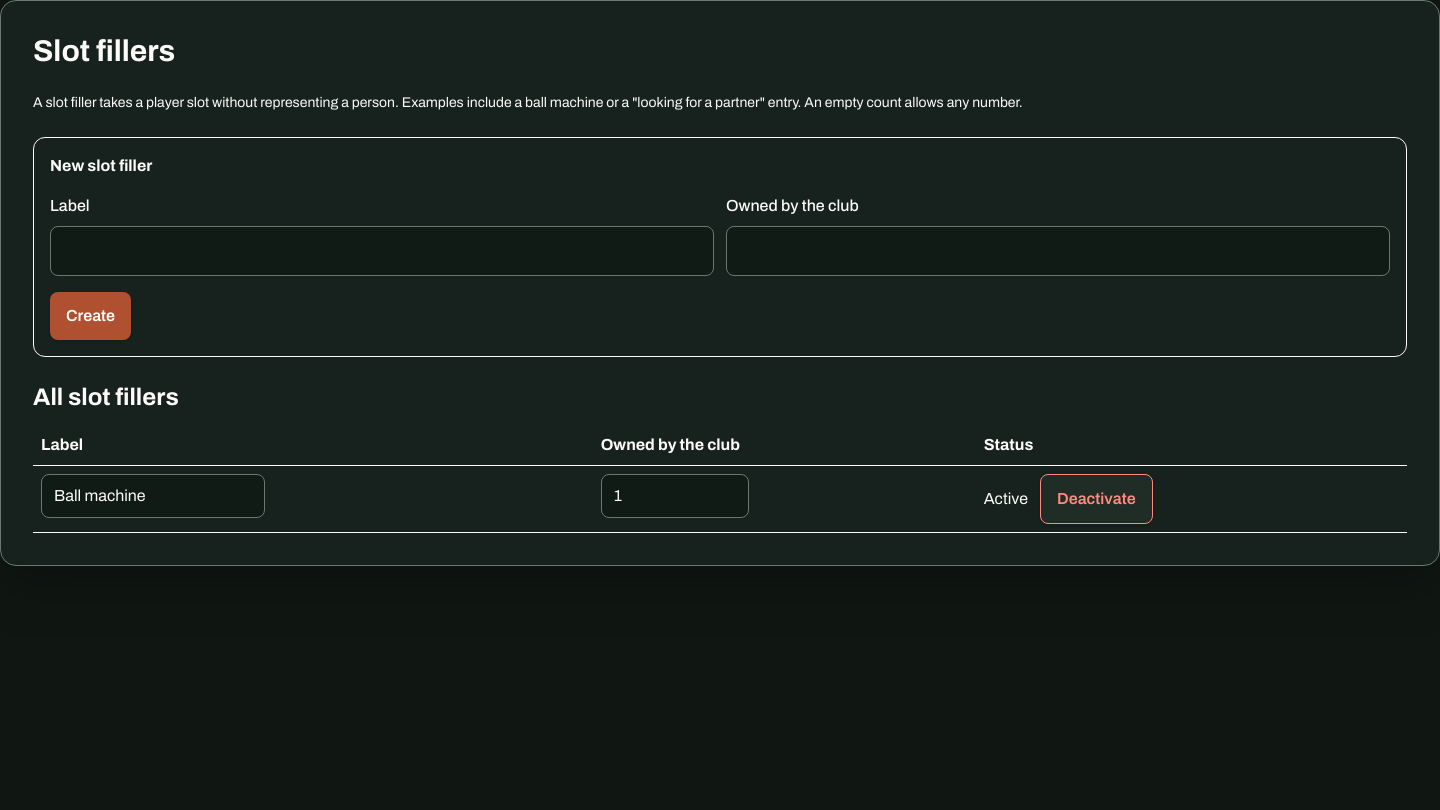
Scenario: AdminSlotFillersView › when a slot filler is added, then it is created and joins the list
Step 1. Type "Looking for a partner" into the field with test id "new-participant-card-label" → (382, 251), box [50, 226, 714, 276]
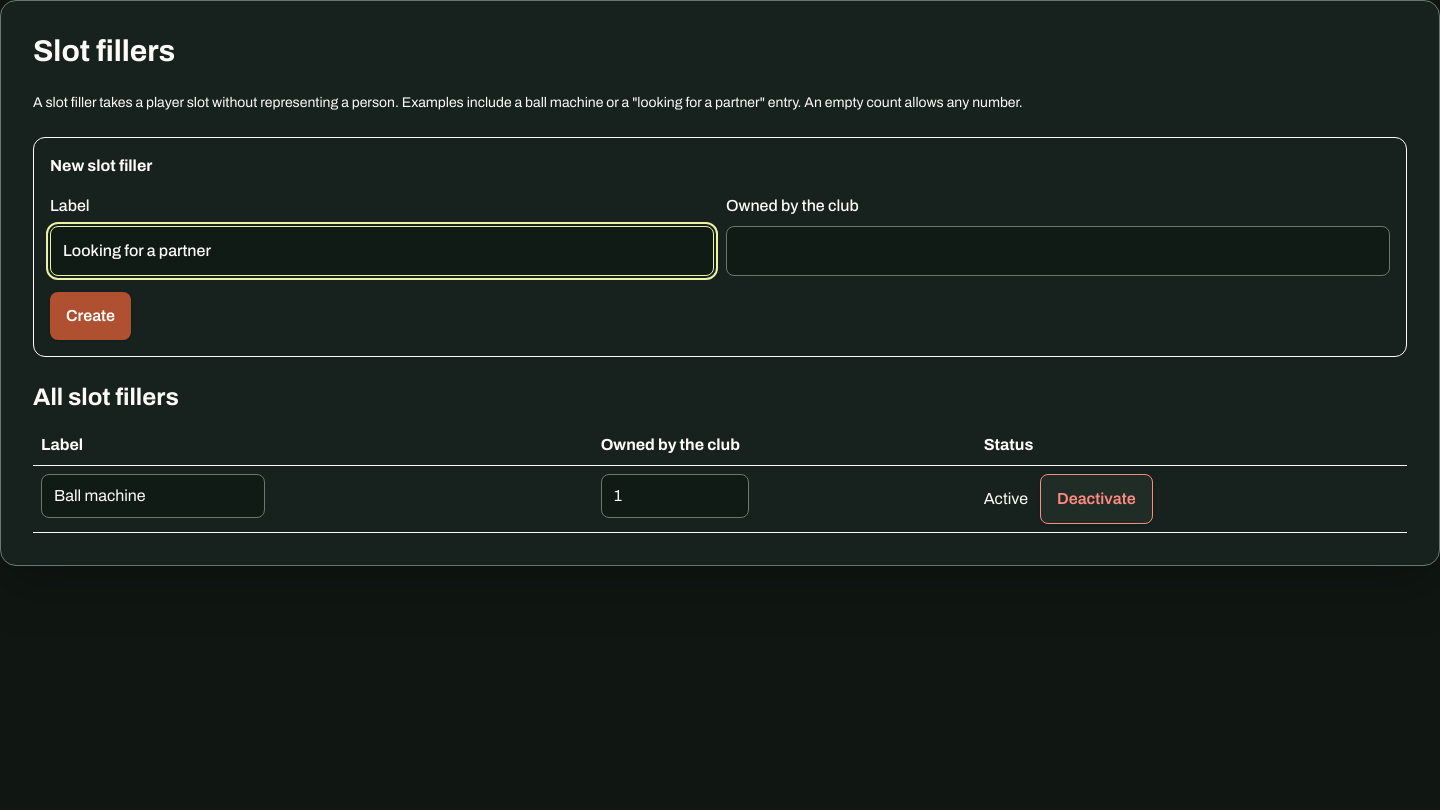
Step 2. Click the button with test id "create-participant-card" → (90, 316), box [50, 292, 131, 340]
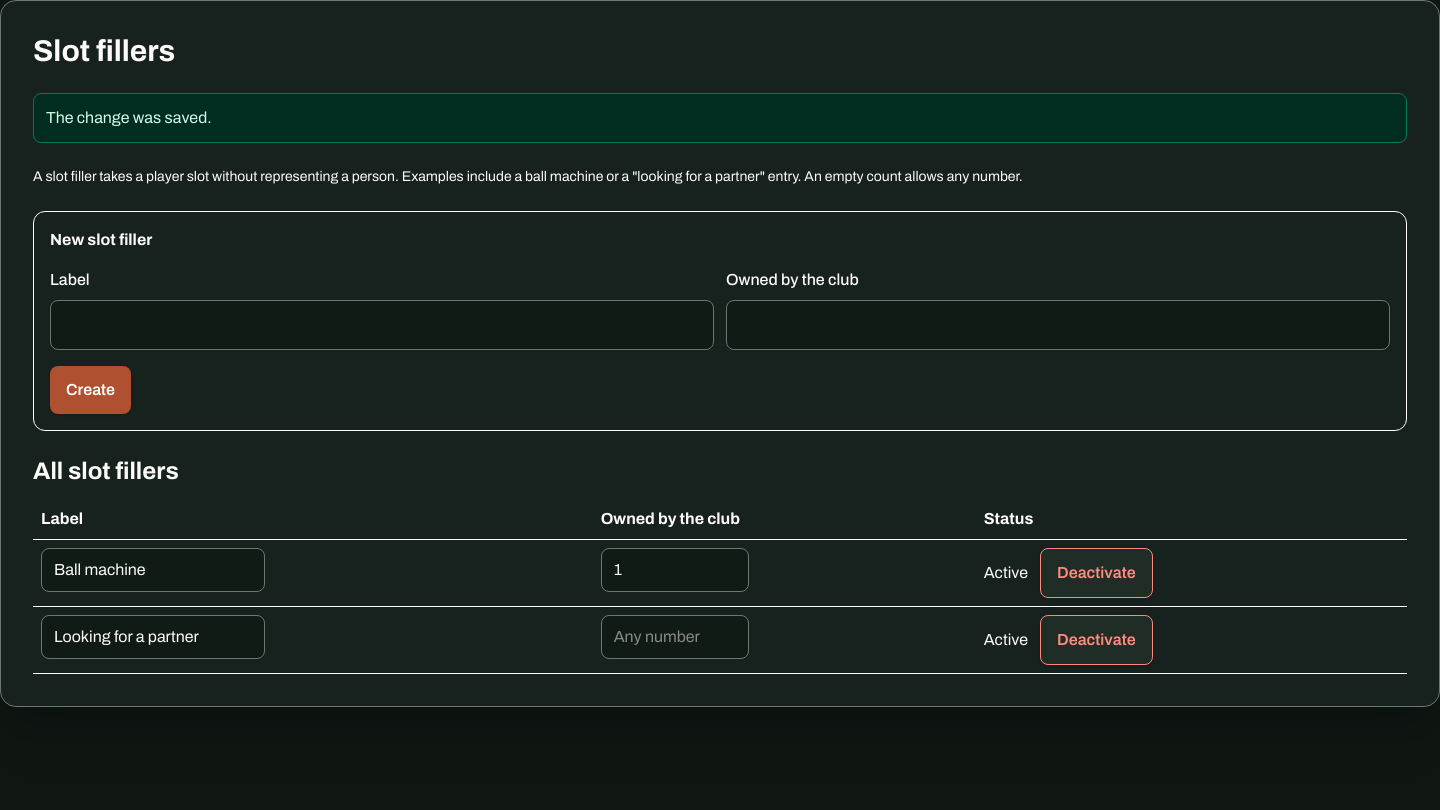
Check: the field with test id "edit-participant-card-label-filler-2" holds "Looking for a partner", box [41, 615, 265, 659]
